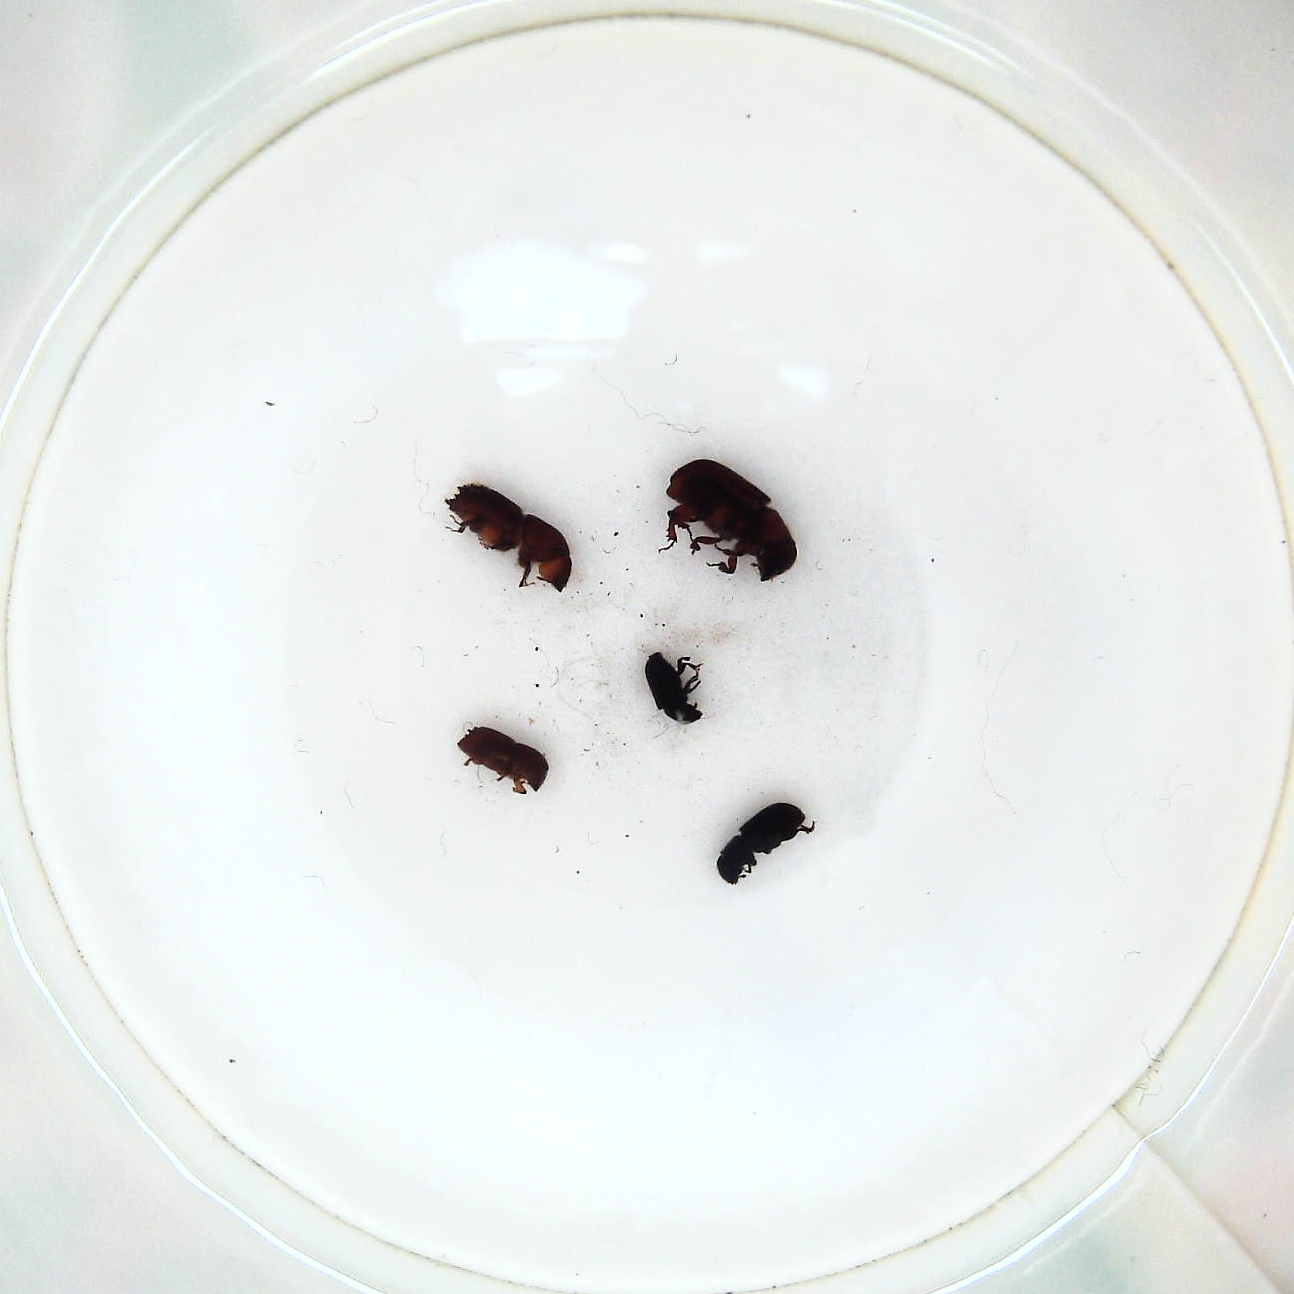Boerner: (441, 475, 574, 597)
Leconte: (661, 451, 800, 588)
armandi: (715, 800, 816, 885)
coleoptera: (643, 646, 710, 734)
linnaeus: (451, 724, 555, 800)
